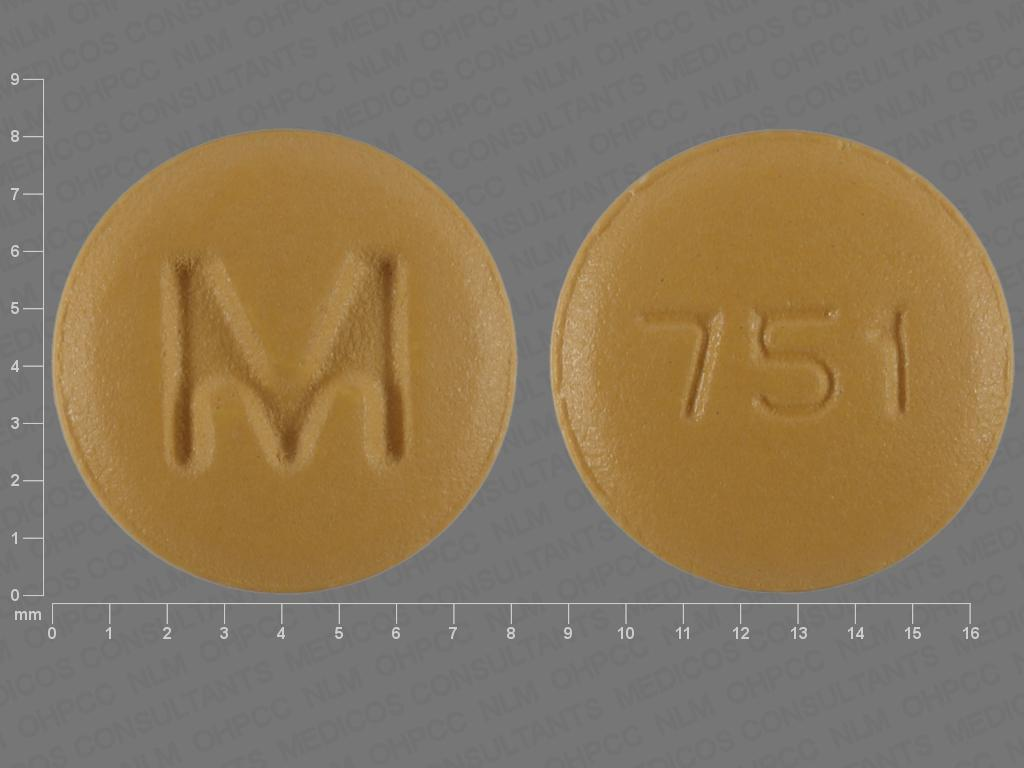Pill: (540, 120, 1024, 598), (46, 121, 524, 600)
